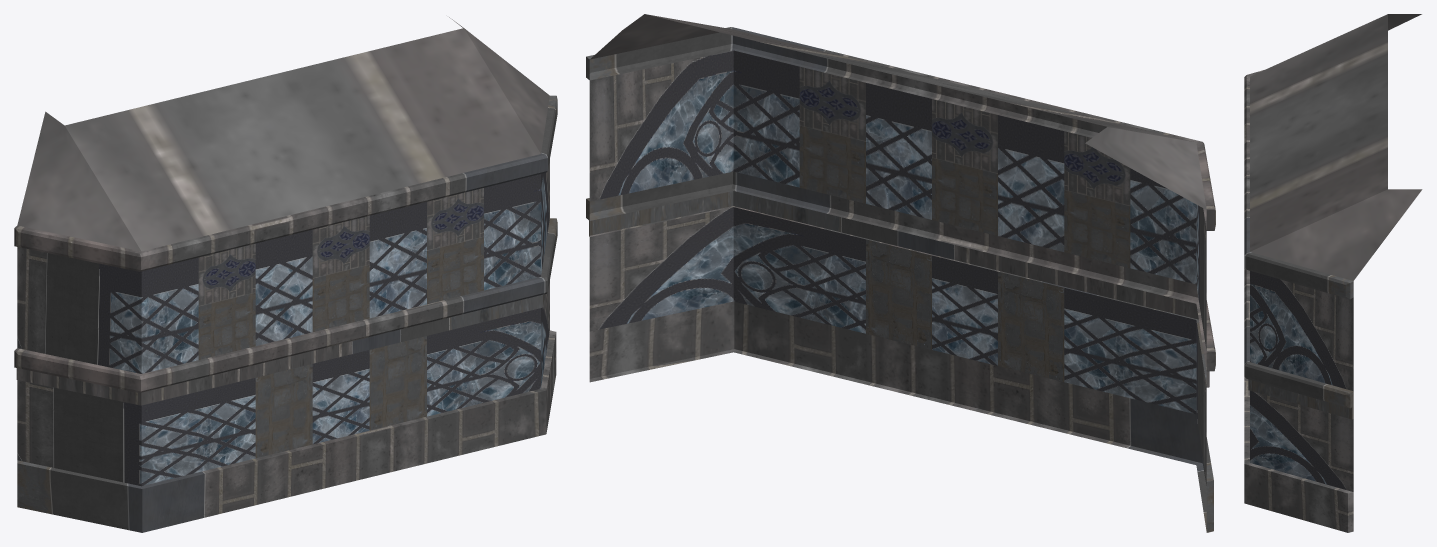
Rendered from building.fbx.
3 views of the same model, side by side, from view 1: azimuth 30°, elevation 25°; view 2: azimuth 150°, elevation 25°; view 3: azimuth 270°, elevation 25° (orthographic). The views are drawn at different scales.
Visible parts, largest first — view 1: building; view 2: building; view 3: building.
Part boxes in pixels (bbox=[...]): building: bbox=[14, 17, 557, 532]; building: bbox=[586, 14, 1215, 532]; building: bbox=[1244, 14, 1422, 532].
Size of the model in its own units: 500 by 258 by 815.
1 material, 1 textured.
